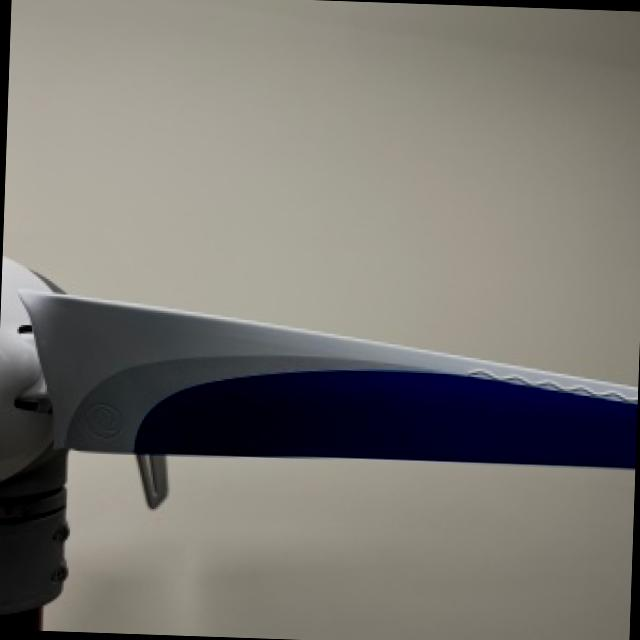healthy: (0, 256, 638, 628)
